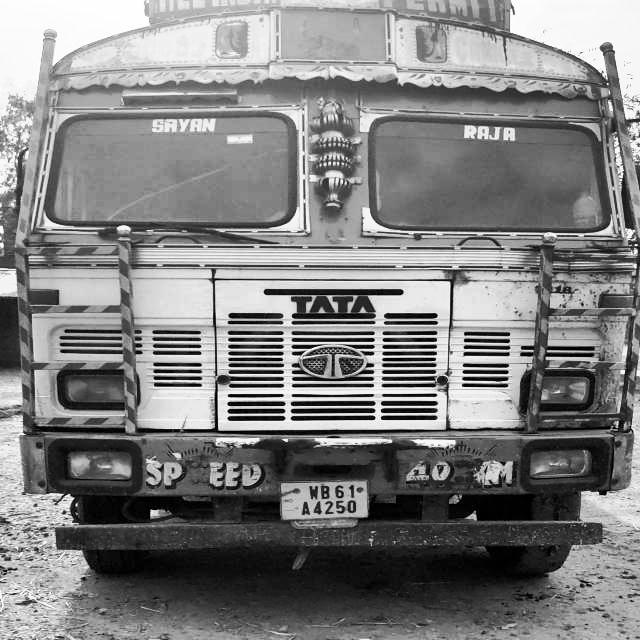HCV: (21, 2, 640, 586)
